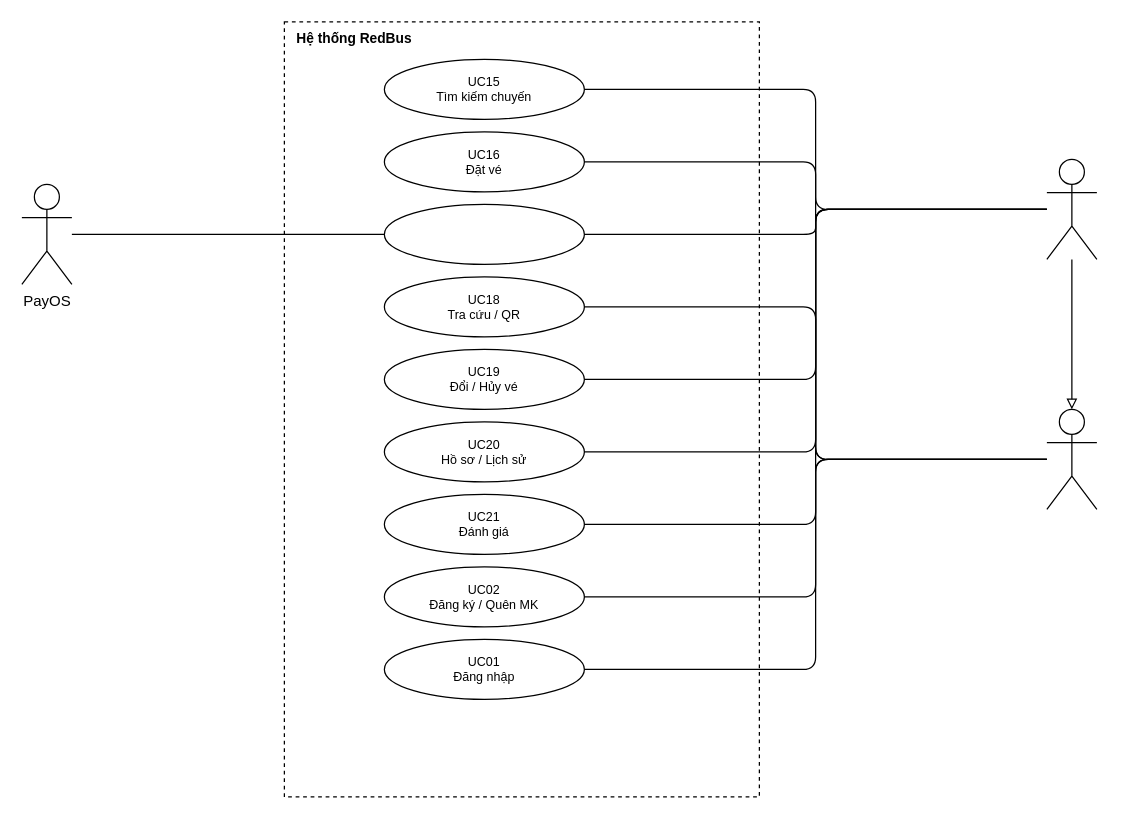
This 1143x819 diagram has some shape labels left out. The centre of each missing label's shape, as x and y in pixels:
Khách hàng: point (1071, 208)
Khách vãng lai: point (1071, 458)
UC17 Thanh toán: point (483, 233)
